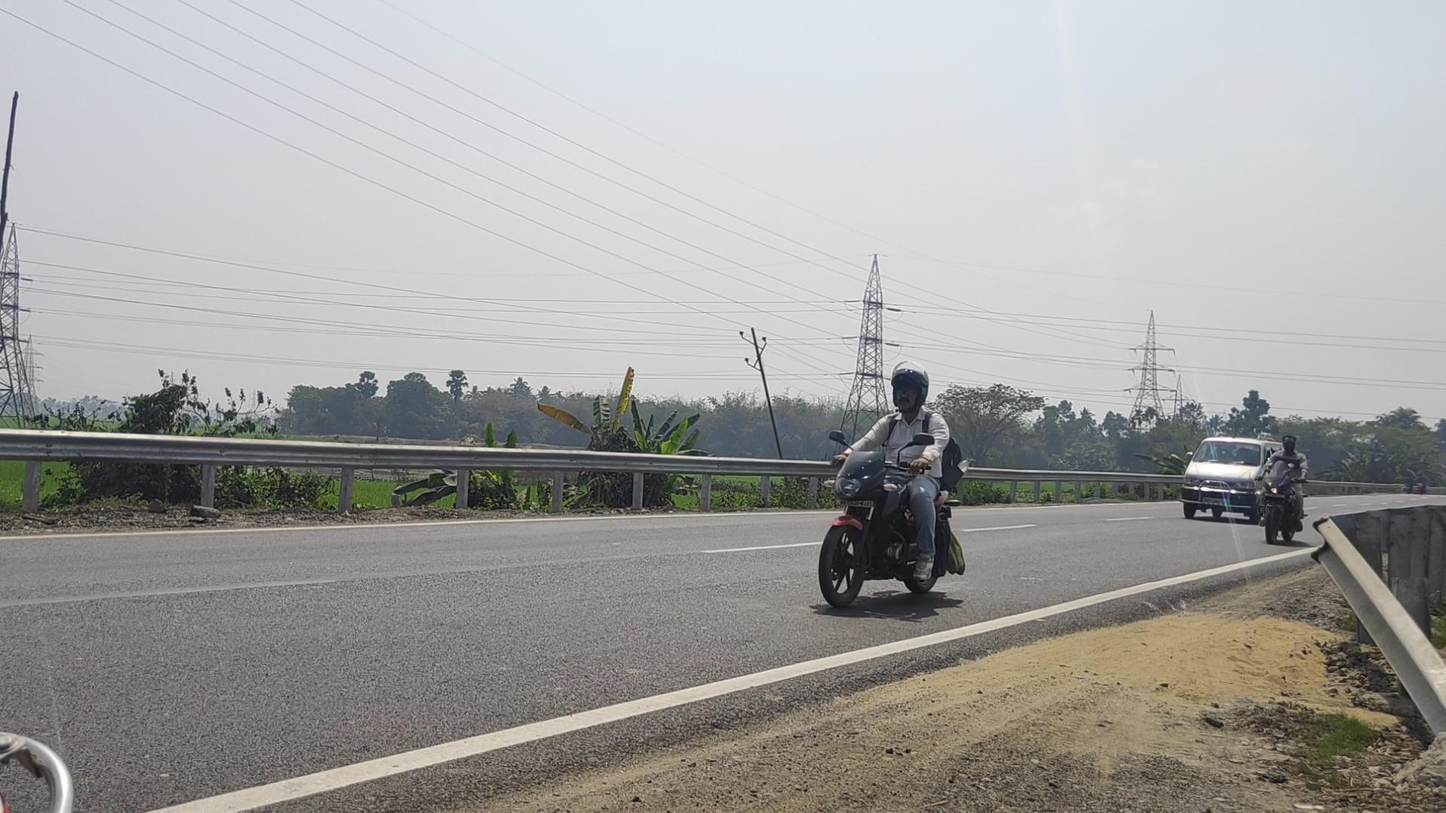bike: (818, 361, 966, 610), (1255, 436, 1308, 544)
van: (1180, 437, 1284, 525)
